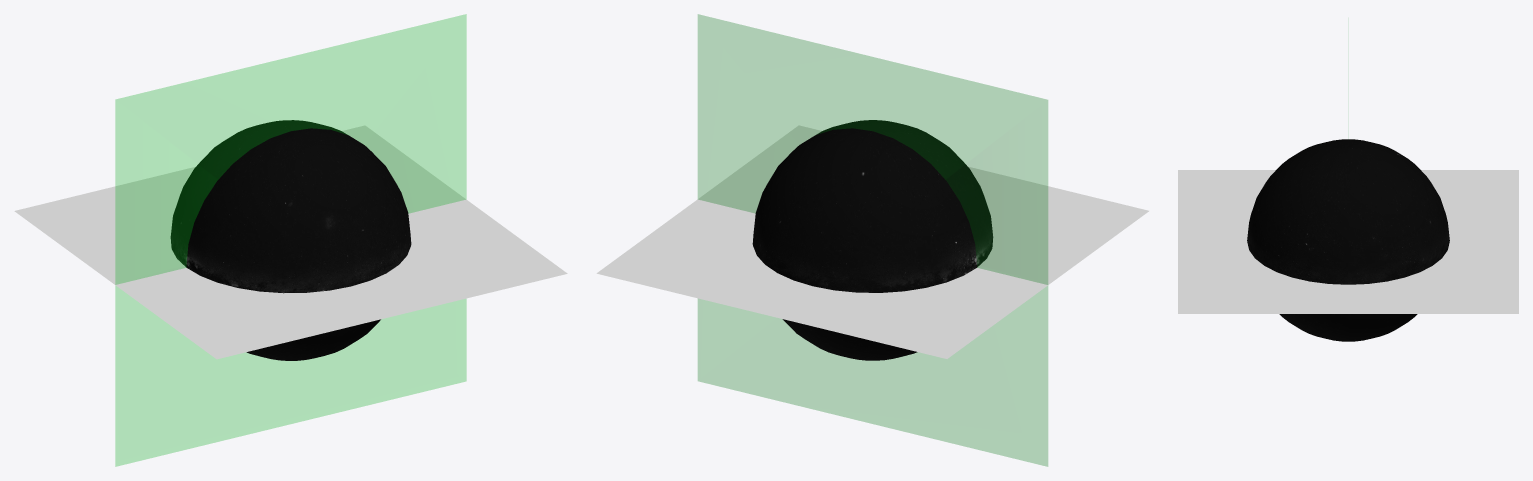
The model's file is portal-1.glb.
3 views of the same model, side by side, from view 1: azimuth 30°, elevation 25°; view 2: azimuth 150°, elevation 25°; view 3: azimuth 270°, elevation 25° (orthographic). The views are drawn at different scales.
Parts seen in each view (by area): view 1: clip.001, skyOut, showIn, hideIn, skyIn; view 2: clip.001, skyIn, hideIn, showIn, skyOut; view 3: hideIn, showIn, skyIn, skyOut.
Part boxes in pixels (box(x1,y1,x2,y2)): clip.001: box(115, 14, 466, 466); skyOut: box(186, 128, 411, 360); showIn: box(116, 199, 567, 359); hideIn: box(14, 125, 465, 285); skyIn: box(170, 120, 347, 267); clip.001: box(698, 14, 1047, 466); skyIn: box(752, 128, 977, 360); hideIn: box(596, 199, 1047, 358); showIn: box(698, 125, 1148, 284); skyOut: box(816, 120, 993, 266); hideIn: box(1348, 170, 1518, 313); showIn: box(1178, 170, 1348, 313); skyIn: box(1348, 139, 1449, 341); skyOut: box(1247, 139, 1348, 341).
Size of the model in its own units: 200 by 200 by 200.
10 materials, 3 textured.
